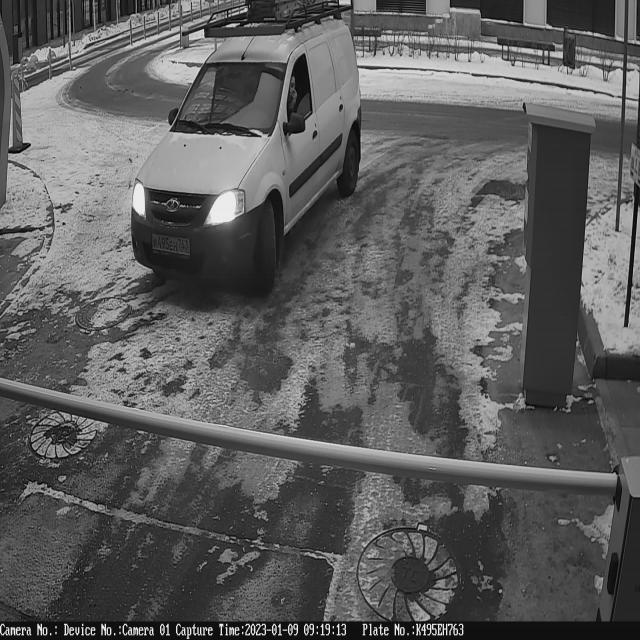car-plate-numbers: (148, 225, 195, 265)
